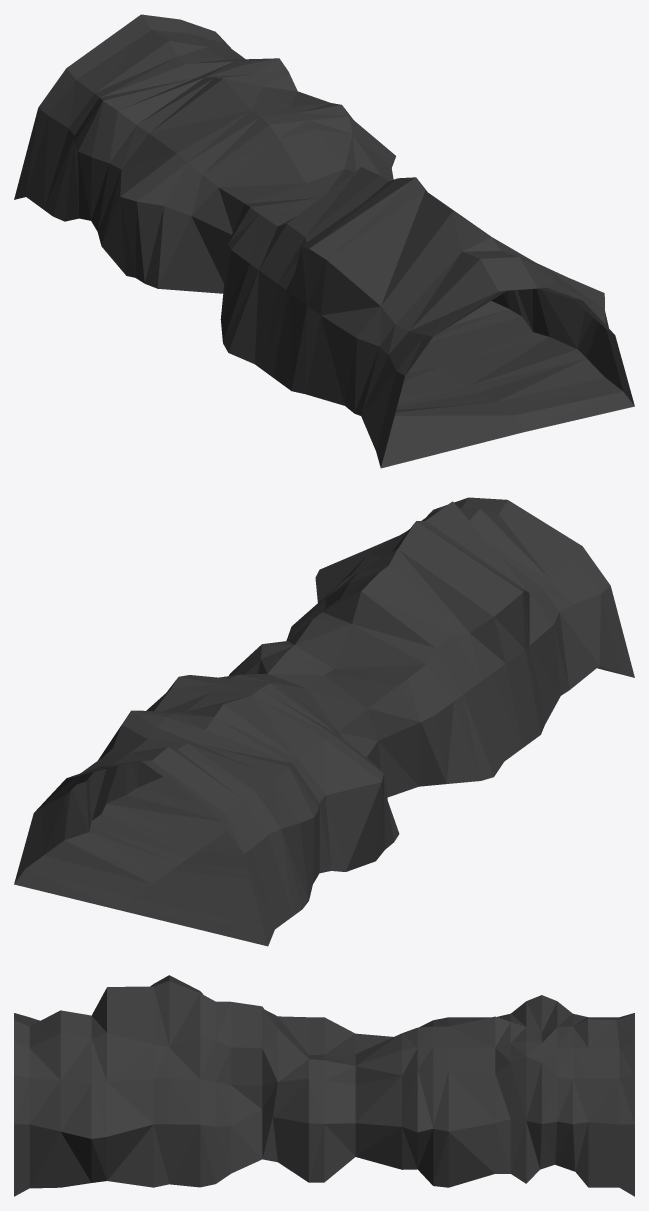
The model's file is Cave_3_LOD_2.fbx.
3 renders of one model, top to bottom at view 1: azimuth 30°, elevation 25°; view 2: azimuth 150°, elevation 25°; view 3: azimuth 270°, elevation 25°, orthographic. The views are drawn at different scales.
Visible parts, largest first — view 1: pCylinder5; view 2: pCylinder5; view 3: pCylinder5.
Boxes of the visible parts, x1,y1,x2,y2 form: pCylinder5: [14, 14, 634, 468]; pCylinder5: [14, 497, 634, 946]; pCylinder5: [14, 975, 634, 1196].
Size of the model in its own units: 8.67 by 5.81 by 20.
